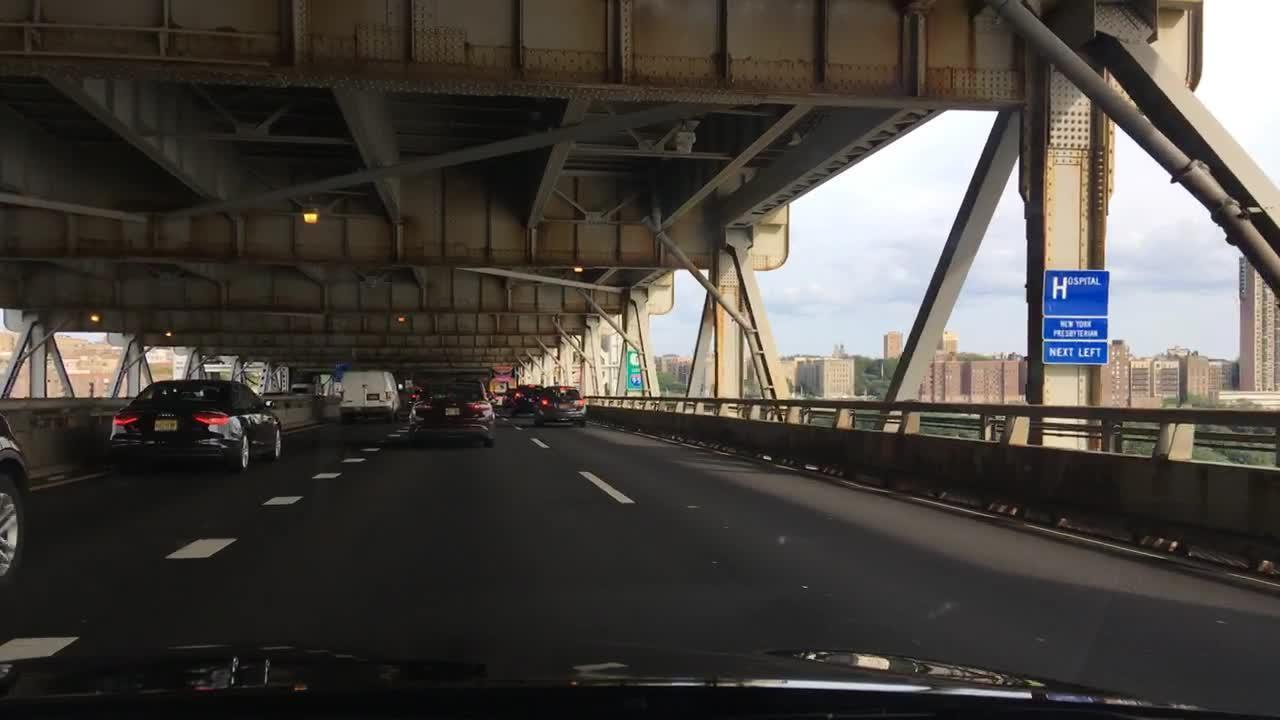Audi: (155, 409, 178, 421)
